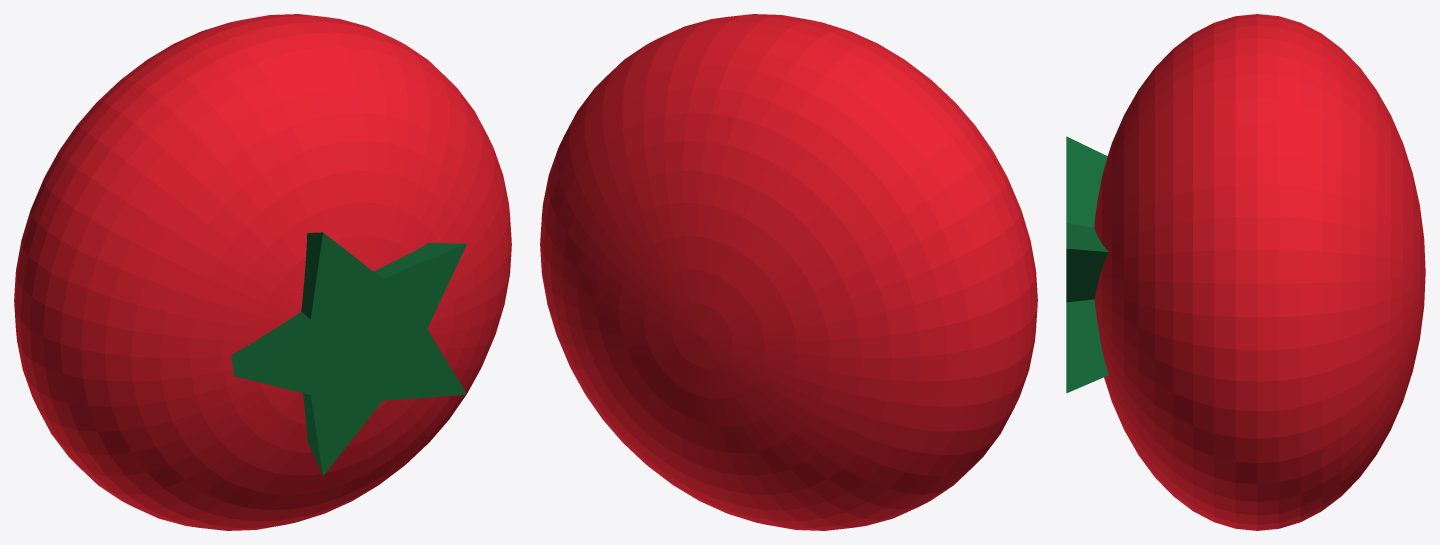
The model's file is tinker.obj.
3 views of the same model, side by side, from view 1: azimuth 30°, elevation 25°; view 2: azimuth 150°, elevation 25°; view 3: azimuth 270°, elevation 25° (orthographic). The views are drawn at different scales.
Visible parts, largest first — view 1: obj_0, obj_1; view 2: obj_0; view 3: obj_0, obj_1.
Boxes of the visible parts, left/top/right/bottom form: obj_0: left=14, top=14, right=511, bottom=530; obj_1: left=231, top=232, right=466, bottom=475; obj_0: left=540, top=14, right=1037, bottom=530; obj_0: left=1094, top=14, right=1425, bottom=530; obj_1: left=1066, top=136, right=1108, bottom=393.
Size of the model in its own units: 20 by 20 by 13.89.
